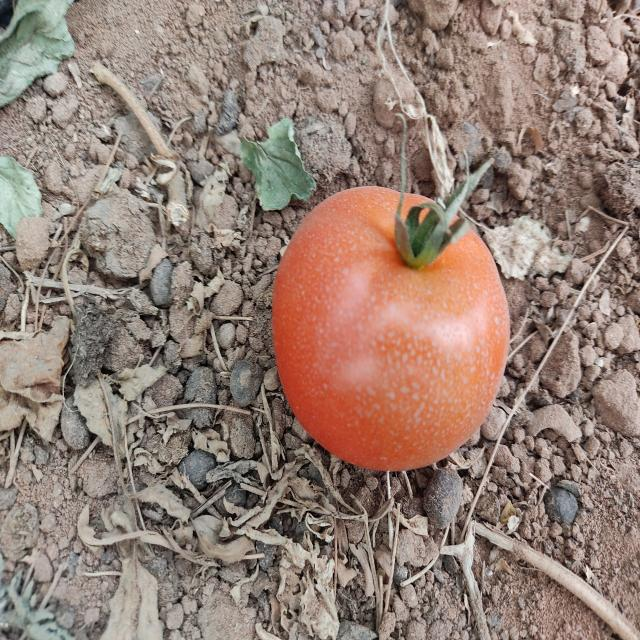Ripe Tomato: (275, 187, 512, 473)
